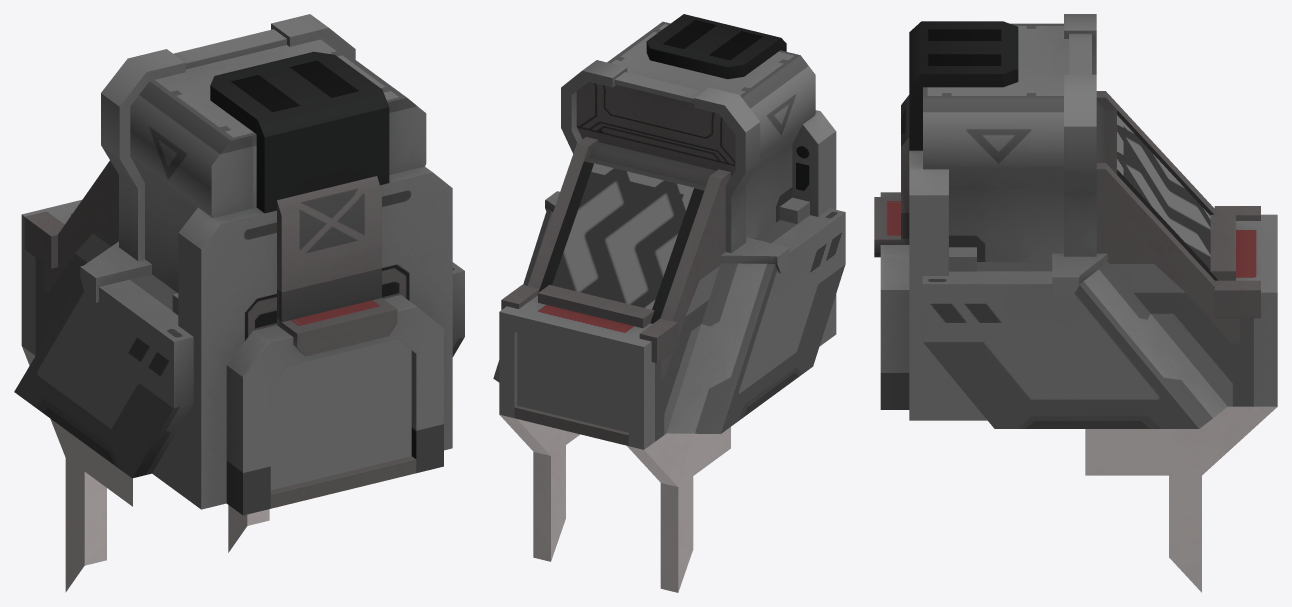
Rendered from piler.glb.
The picture shows the model from 3 angles, left to right: view 1: azimuth 30°, elevation 25°; view 2: azimuth 150°, elevation 25°; view 3: azimuth 270°, elevation 25°; orthographic projection. The views are drawn at different scales.
Visible parts, largest first — view 1: piler, piler-mask, piler-1; view 2: piler, piler-effect, piler-1, piler-mask; view 3: piler, piler-1, piler-effect.
Boxes of the visible parts, bbox=[...] form: piler: bbox=[14, 14, 464, 515]; piler-mask: bbox=[270, 339, 411, 490]; piler-1: bbox=[22, 346, 269, 592]; piler: bbox=[493, 14, 845, 449]; piler-effect: bbox=[552, 163, 693, 309]; piler-1: bbox=[499, 414, 730, 592]; piler-mask: bbox=[517, 332, 628, 432]; piler: bbox=[874, 14, 1277, 428]; piler-1: bbox=[1085, 406, 1277, 592]; piler-effect: bbox=[1117, 115, 1210, 269].
Size of the model in its own units: 2.25 by 4.22 by 3.05.
Materials: 3 (2 with a texture image).
